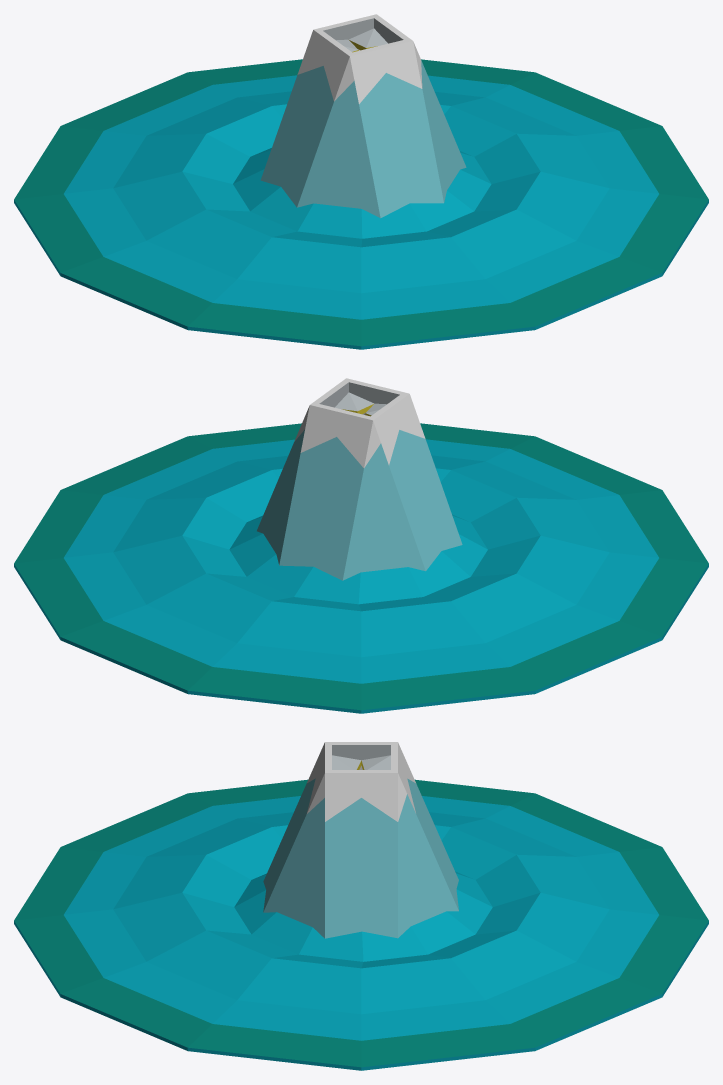
3 renders of one model, top to bottom at view 1: azimuth 30°, elevation 25°; view 2: azimuth 150°, elevation 25°; view 3: azimuth 270°, elevation 25°, orthographic.
Visible parts, largest first — view 1: node_MeshObject-587198464-PolyPaper5; view 2: node_MeshObject-587198464-PolyPaper5; view 3: node_MeshObject-587198464-PolyPaper5.
Boxes of the visible parts, x1,y1,x2,y2 form: node_MeshObject-587198464-PolyPaper5: (14,14,708,349); node_MeshObject-587198464-PolyPaper5: (14,378,708,713); node_MeshObject-587198464-PolyPaper5: (14,742,708,1070).
Bounding box in the file's own units: 3.45 × 0.9158 × 3.45.
